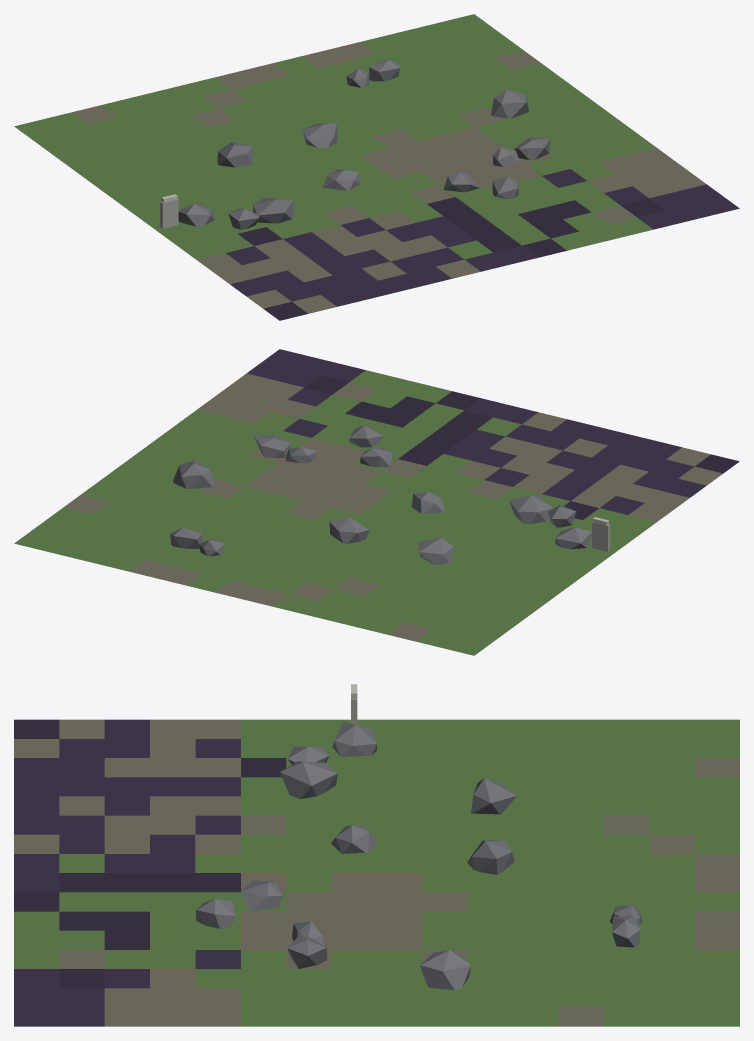
Rendered from chunk_0_22.glb.
The picture shows the model from 3 angles, top to bottom: view 1: azimuth 30°, elevation 25°; view 2: azimuth 150°, elevation 25°; view 3: azimuth 270°, elevation 25°; orthographic projection. The views are drawn at different scales.
Parts seen in each view (by area): view 1: chunk_0_22; view 2: chunk_0_22; view 3: chunk_0_22.
Boxes of the visible parts, x1,y1,x2,y2 form: chunk_0_22: (14, 14, 739, 320); chunk_0_22: (14, 349, 739, 655); chunk_0_22: (14, 684, 739, 1026).
Bounding box in the file's own units: 16 × 1.35 × 16.
